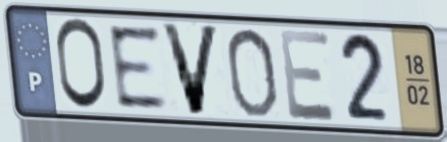2: (338, 27, 398, 131)
E: (276, 26, 340, 124), (104, 23, 171, 111)
O: (53, 15, 110, 114), (223, 25, 281, 120)
V: (157, 19, 224, 119)
